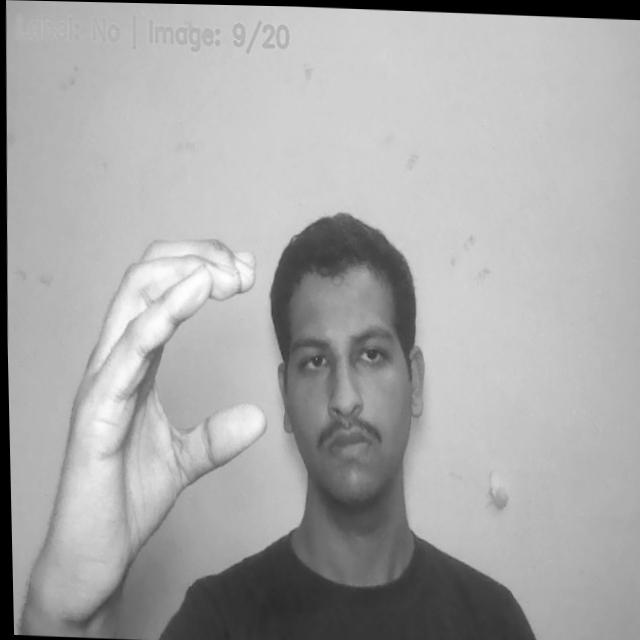No: (39, 235, 277, 577)
